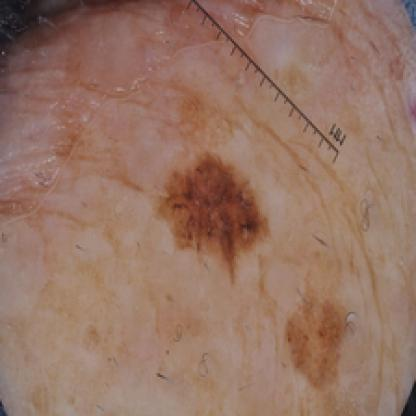malignant: (46, 22, 162, 145), (167, 141, 264, 260), (282, 278, 357, 382)
